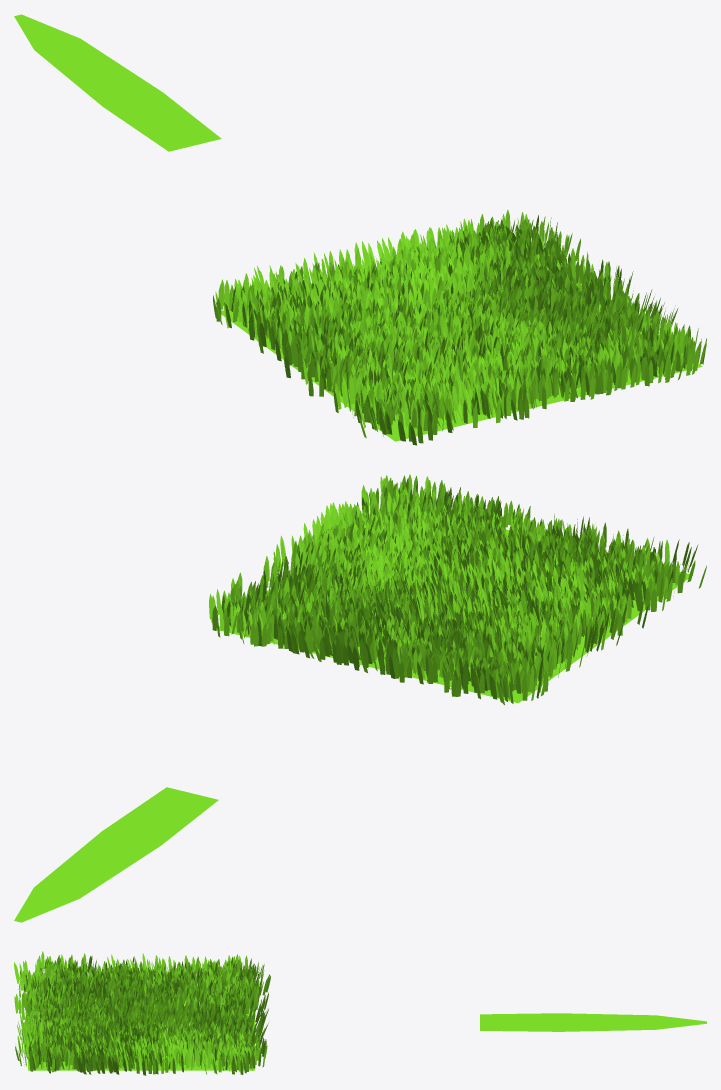
Rendered from grama4.fbx.
3 views of the same model, one above another, from view 1: azimuth 30°, elevation 25°; view 2: azimuth 150°, elevation 25°; view 3: azimuth 270°, elevation 25° (orthographic). The views are drawn at different scales.
Parts seen in each view (by area): view 1: Plane.001, Plane; view 2: Plane.001, Plane; view 3: Plane.001, Plane.
Boxes of the visible parts, box(x1,y1,x2,y2) form: Plane.001: box(14, 14, 221, 151); Plane: box(221, 241, 702, 441); Plane.001: box(14, 787, 218, 922); Plane: box(216, 509, 693, 703); Plane.001: box(480, 1013, 706, 1031); Plane: box(28, 974, 254, 1070).
Bounding box in the file's own units: 230 × 16.93 × 611.
